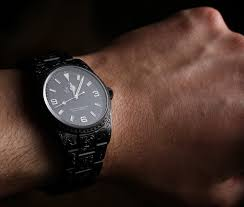clock: (43, 66, 108, 127)
